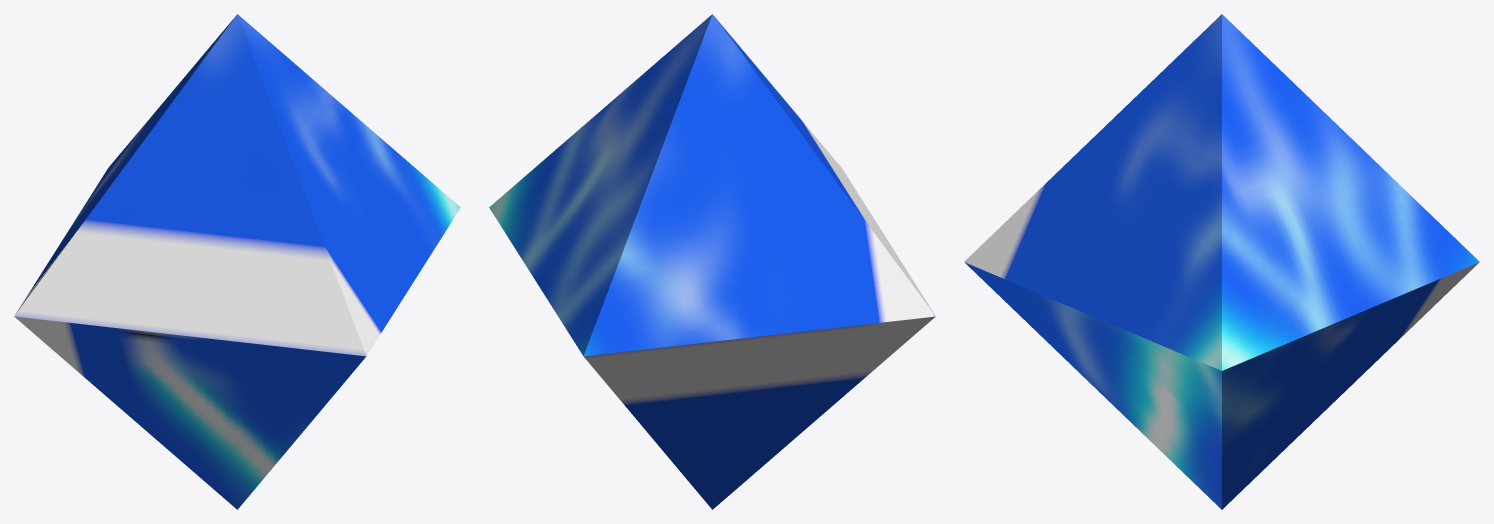
Rendered from plasma.obj.
3 renders of one model, left to right at view 1: azimuth 30°, elevation 25°; view 2: azimuth 150°, elevation 25°; view 3: azimuth 270°, elevation 25°, orthographic.
Parts seen in each view (by area): view 1: Plane.002; view 2: Plane.002; view 3: Plane.002.
Part boxes in pixels (box(x1,y1,x2,y2)): Plane.002: box(14, 14, 460, 509); Plane.002: box(489, 14, 935, 509); Plane.002: box(964, 14, 1479, 509).
Bounding box in the file's own units: 1.41 × 1.5 × 1.41.
Materials: 1 (1 with a texture image).
